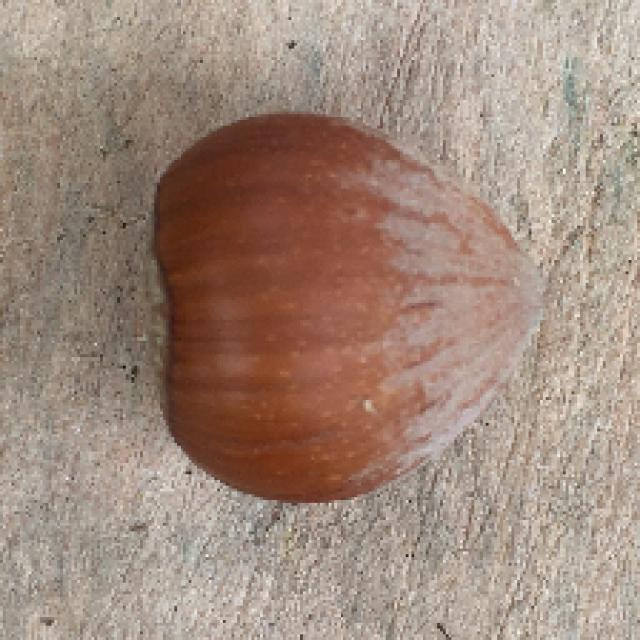qualityHazelnut: (138, 104, 538, 499)
